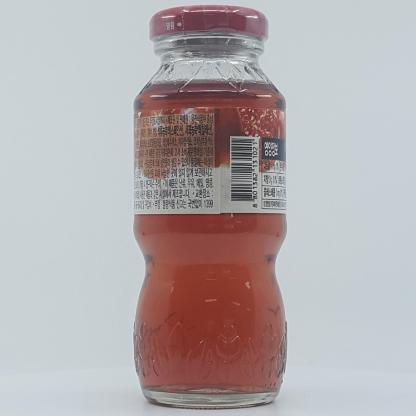-------180ML: (132, 5, 288, 408)
